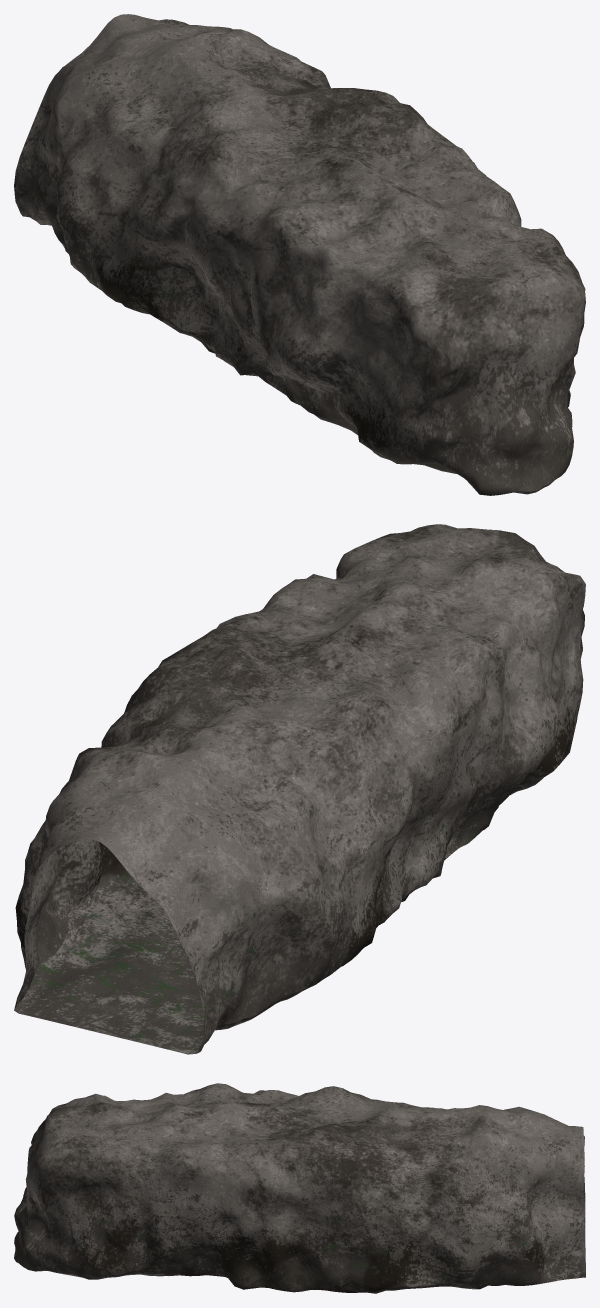
The model's file is Cave2.glb.
The picture shows the model from 3 angles, top to bottom: view 1: azimuth 30°, elevation 25°; view 2: azimuth 150°, elevation 25°; view 3: azimuth 270°, elevation 25°; orthographic projection. The views are drawn at different scales.
Parts seen in each view (by area): view 1: Object_2; view 2: Object_2; view 3: Object_2.
Boxes of the visible parts, box(x1,y1,x2,y2) form: Object_2: box(14, 14, 585, 495); Object_2: box(14, 524, 585, 1054); Object_2: box(14, 1083, 585, 1293).
Bounding box in the file's own units: 4.64 × 3.47 × 11.76.
Materials: 1 (1 with a texture image).
